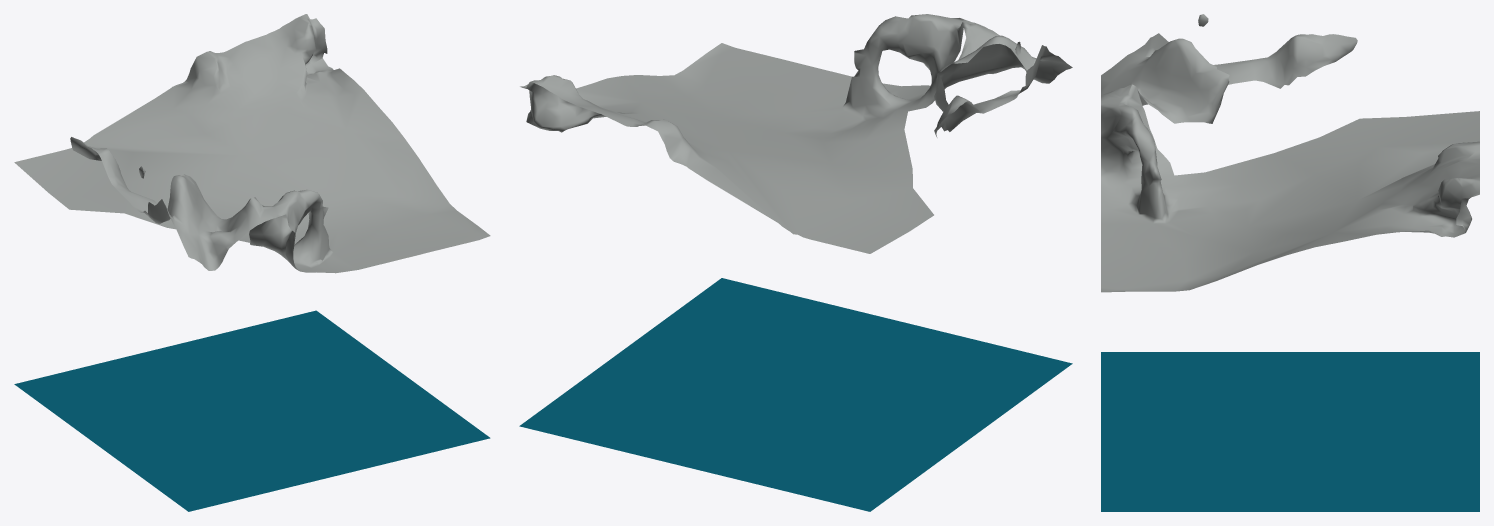
The picture shows the model from 3 angles, left to right: view 1: azimuth 30°, elevation 25°; view 2: azimuth 150°, elevation 25°; view 3: azimuth 270°, elevation 25°; orthographic projection. The views are drawn at different scales.
Visible parts, largest first — view 1: G:\FFXIV-MapTools\exports\s1f3\bg\ffxiv\sea_s1\fld\s1f3\bgpl (×7); view 2: G:\FFXIV-MapTools\exports\s1f3\bg\ffxiv\sea_s1\fld\s1f3\bgpl (×7); view 3: G:\FFXIV-MapTools\exports\s1f3\bg\ffxiv\sea_s1\fld\s1f3\bgpl (×7).
Part boxes in pixels (x1,y1,x2,y2): G:\FFXIV-MapTools\exports\s1f3\bg\ffxiv\sea_s1\fld\s1f3\bgpl (×7): (14,14,490,511); G:\FFXIV-MapTools\exports\s1f3\bg\ffxiv\sea_s1\fld\s1f3\bgpl (×7): (519,14,1072,511); G:\FFXIV-MapTools\exports\s1f3\bg\ffxiv\sea_s1\fld\s1f3\bgpl (×7): (1101,14,1479,511).
Bounding box in the file's own units: 128 × 126 × 128.
